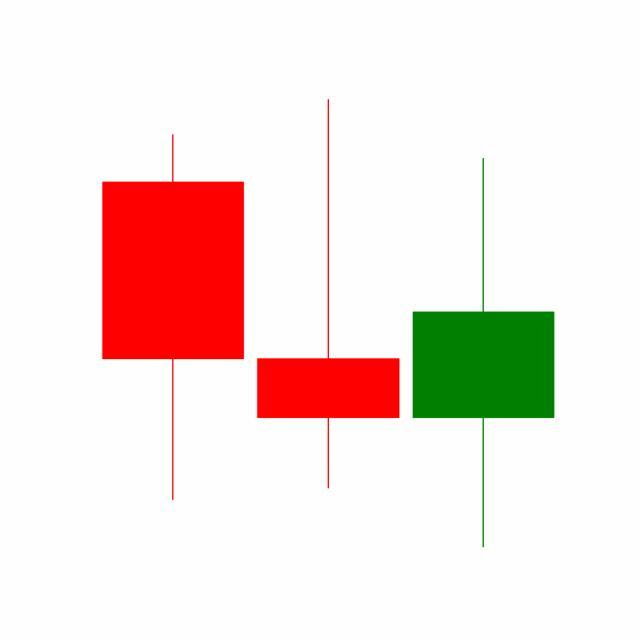Spinning Top: (250, 96, 407, 494)
